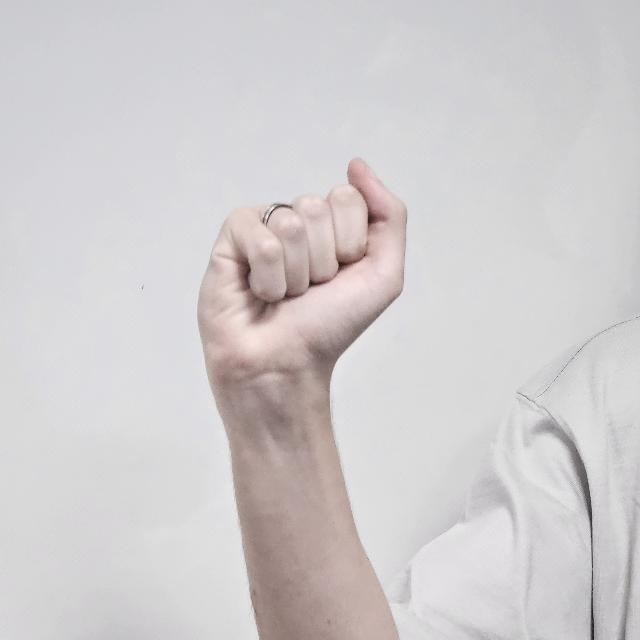Quadro: (198, 154, 408, 388)
